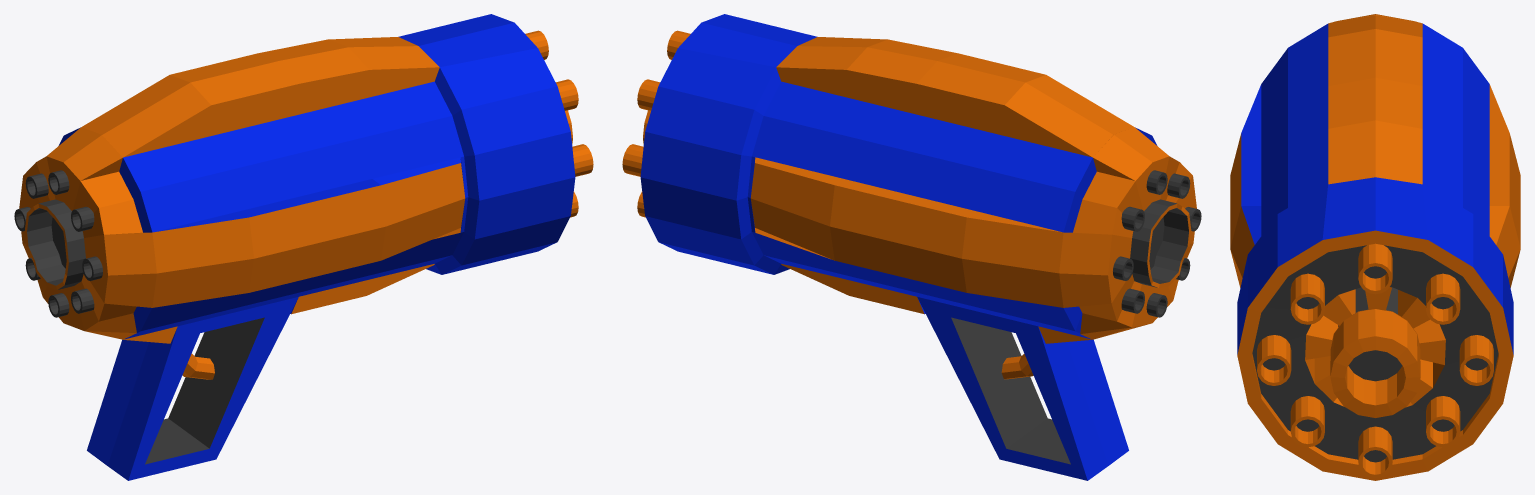
File: nerfgun-b.fbx
3 views of the same model, side by side, from view 1: azimuth 30°, elevation 25°; view 2: azimuth 150°, elevation 25°; view 3: azimuth 270°, elevation 25° (orthographic). The views are drawn at different scales.
Parts seen in each view (by area): view 1: GUN2 2; view 2: GUN2 2; view 3: GUN2 2.
Boxes of the visible parts, x1,y1,x2,y2 form: GUN2 2: (14, 14, 593, 480); GUN2 2: (622, 14, 1201, 480); GUN2 2: (1230, 14, 1520, 480).
Bounding box in the file's own units: 675 × 461 × 294.
